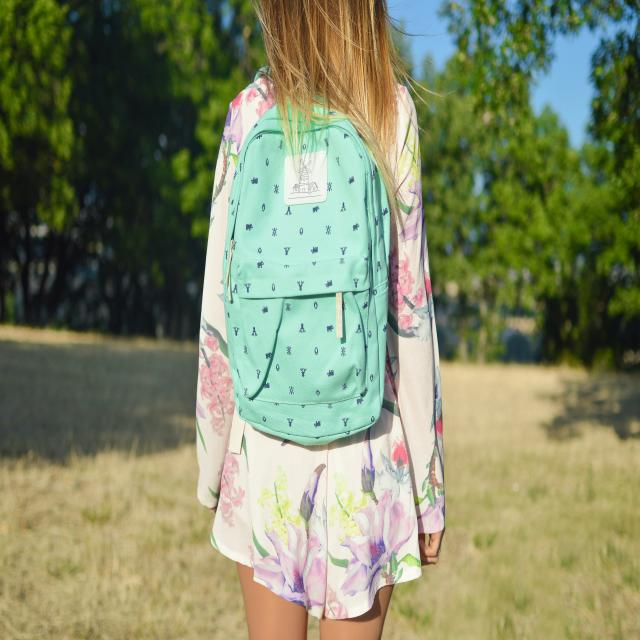backpack: (222, 80, 394, 442)
